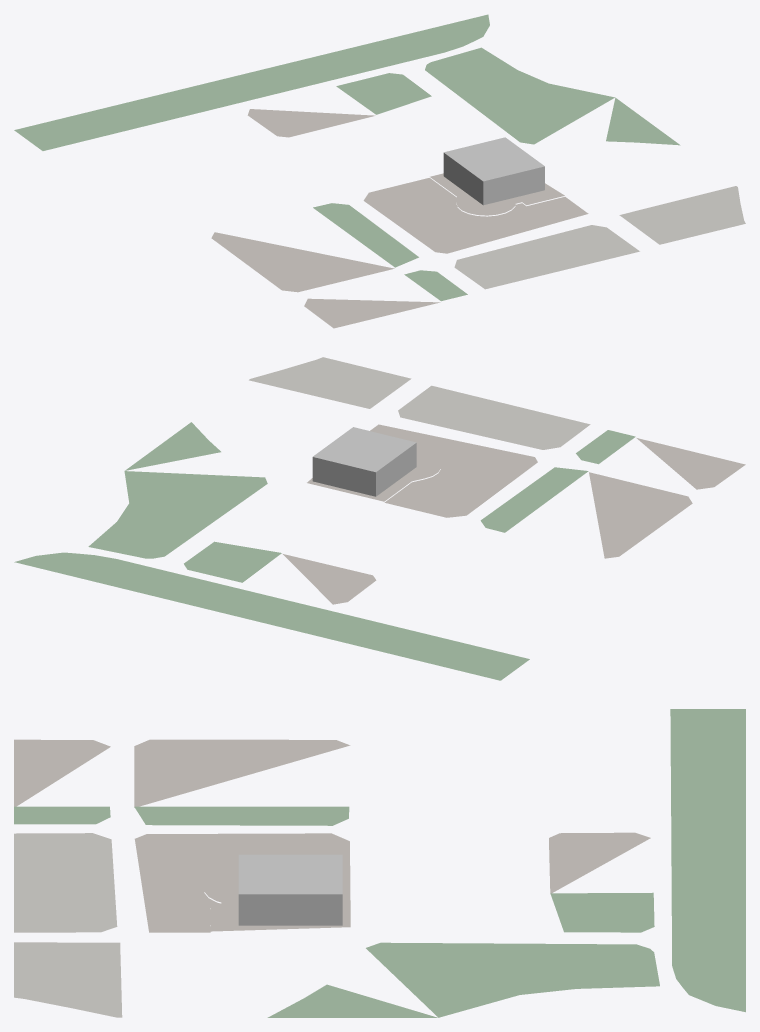
File: 125_69_mid.glb
3 views of the same model, one above another, from view 1: azimuth 30°, elevation 25°; view 2: azimuth 150°, elevation 25°; view 3: azimuth 270°, elevation 25° (orthographic). The views are drawn at different scales.
Bounding box in the file's own units: 500 × 26.59 × 500.
